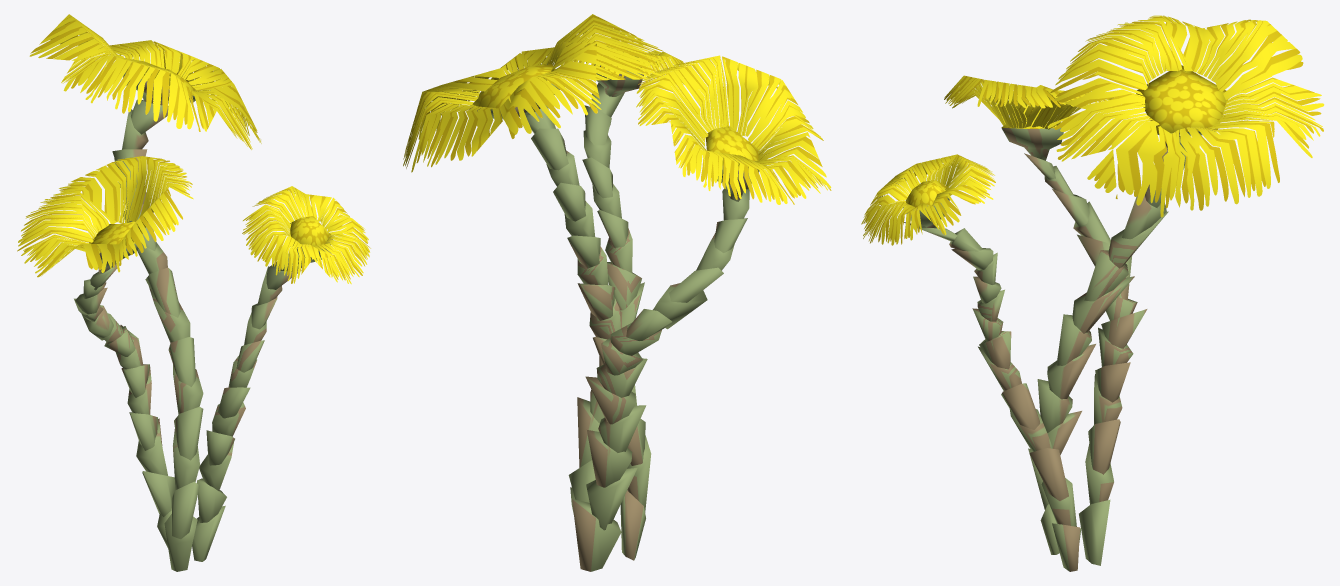
Rendered from Tussilago2.fbx.
The picture shows the model from 3 angles, left to right: view 1: azimuth 30°, elevation 25°; view 2: azimuth 150°, elevation 25°; view 3: azimuth 270°, elevation 25°; orthographic projection. The views are drawn at different scales.
Visible parts, largest first — view 1: Flower; view 2: Flower; view 3: Flower.
Boxes of the visible parts, x1,y1,x2,y2 form: Flower: (17, 14, 370, 571); Flower: (403, 14, 831, 571); Flower: (861, 15, 1324, 571).
Bounding box in the file's own units: 103 × 168 × 134.
